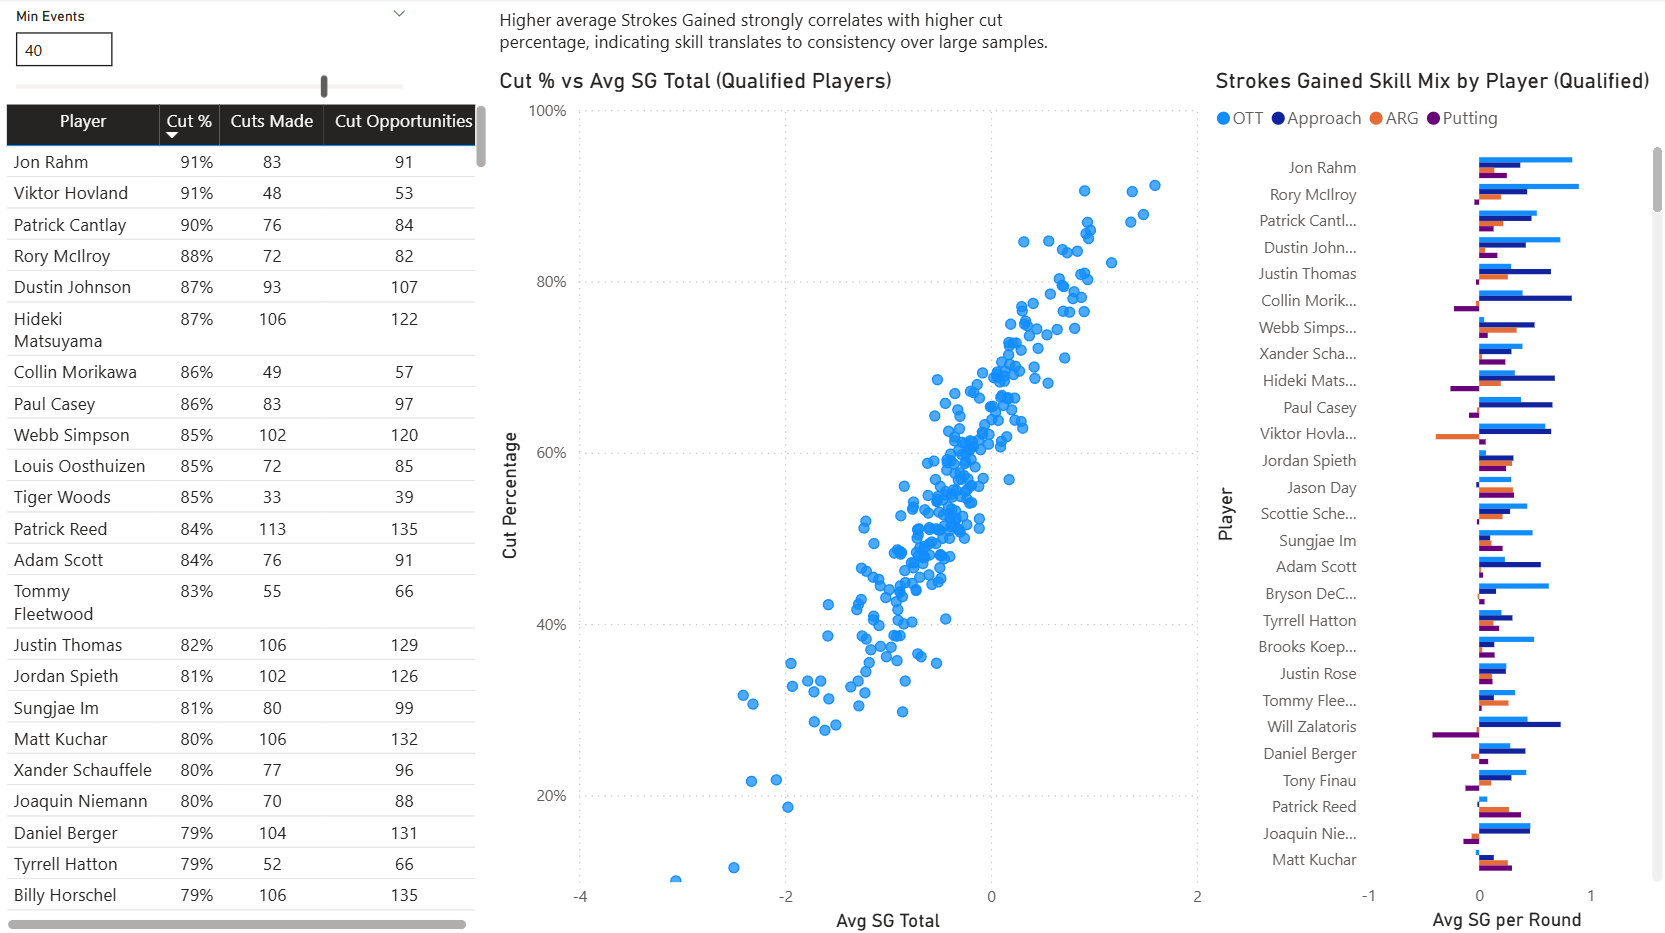

What the dashboard file says about the page in this screenshot:
{"tool":"powerbi","page":{"name":"Cut Performance","canvas":[1280,720],"ordinal":1},"visuals":[{"type":"slicer","fields":{"Values":["Min Events.Min Events"]},"box":[0,2.2,324.2,79.6],"z":0},{"type":"tableEx","fields":{"Values":["Players.player_name","Event Results.Cut %","Event Results.Cuts Made","Event Results.Cut Opportunities"]},"box":[0,76.7,379,643.3],"z":1000},{"type":"clusteredBarChart","title":"Strokes Gained Skill Mix by Player (Qualified)","fields":{"Category":["Players.player_name"],"Y":["Event Results.Avg SG OTT","Event Results.AVG SG Approach","Event Results.Avg SG ARG","Event Results.Avg SG Putting"]},"box":[927.3,53,352.7,666.8],"z":2000},{"type":"scatterChart","title":"Cut % vs Avg SG Total (Qualified Players)","fields":{"X":["Event Results.Avg SG Total"],"Y":["Event Results.Cut %"],"Category":["Players.player_name"]},"box":[378.9,53,548.4,666.8],"z":3000},{"type":"textbox","box":[379,2.2,459.3,51.1],"z":4000}]}

Visuals, with their boxes in screenshot pixels (x1, y1, x2, y2), scaled from the page's 1280x720 canvas onto the 1665x933 screenshot:
slicer - Min Events.Min Events: <bbox>0, 3, 422, 106</bbox>
tableEx - Players.player_name x Event Results.Cut %: <bbox>0, 99, 493, 932</bbox>
"Strokes Gained Skill Mix by Player (Qualified)" clusteredBarChart: <bbox>1206, 69, 1664, 932</bbox>
"Cut % vs Avg SG Total (Qualified Players)" scatterChart: <bbox>493, 69, 1206, 932</bbox>
textbox: <bbox>493, 3, 1090, 69</bbox>
